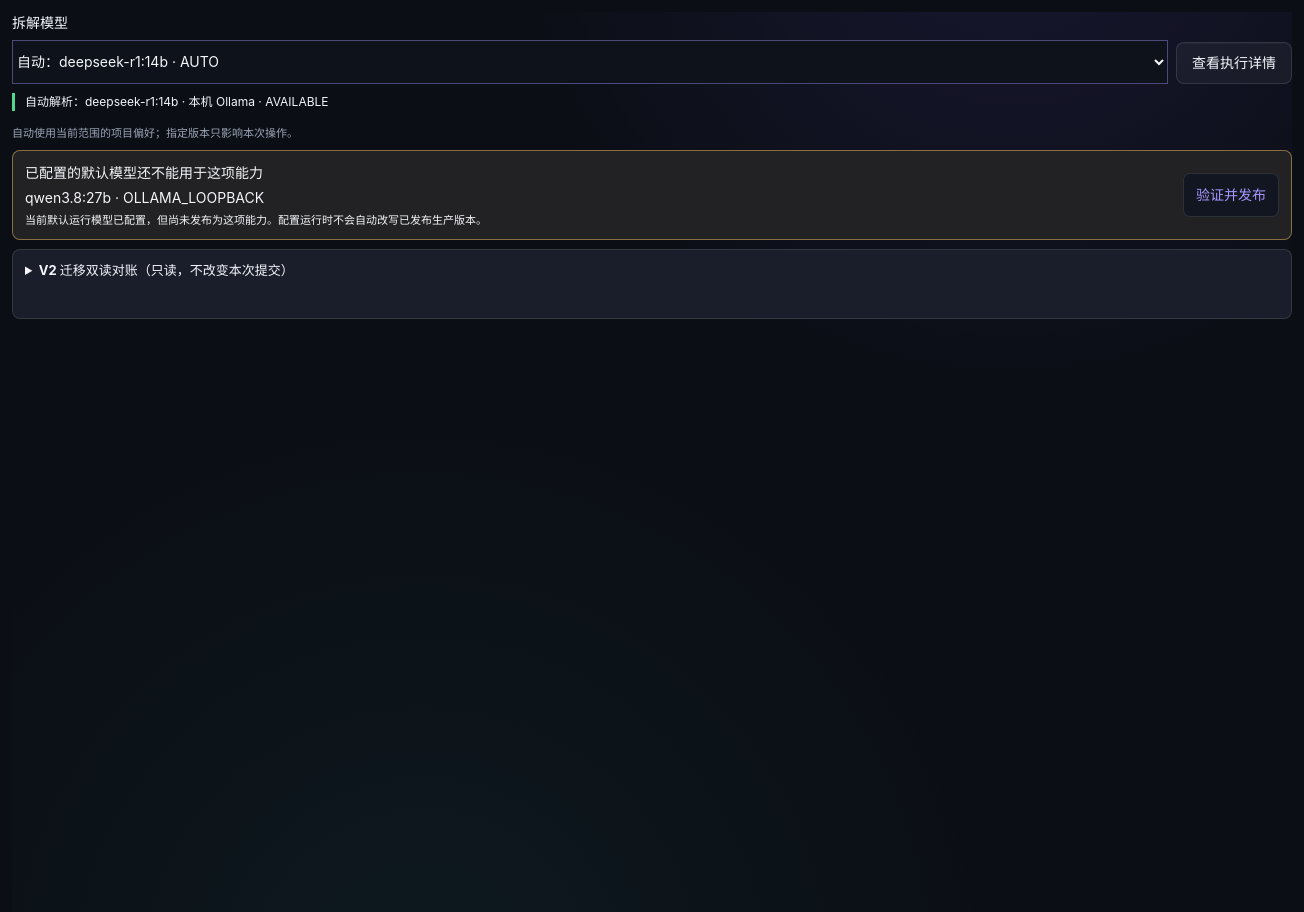
Test: opens V2 migration audit only on demand and keeps the legacy selector unchanged
The width and height of the screenshot is (1304, 912).
Click the heading "V2 迁移双读对账（只读，不改变本次提交）" at (166, 270), box x1=39 y1=262 x2=294 y2=278
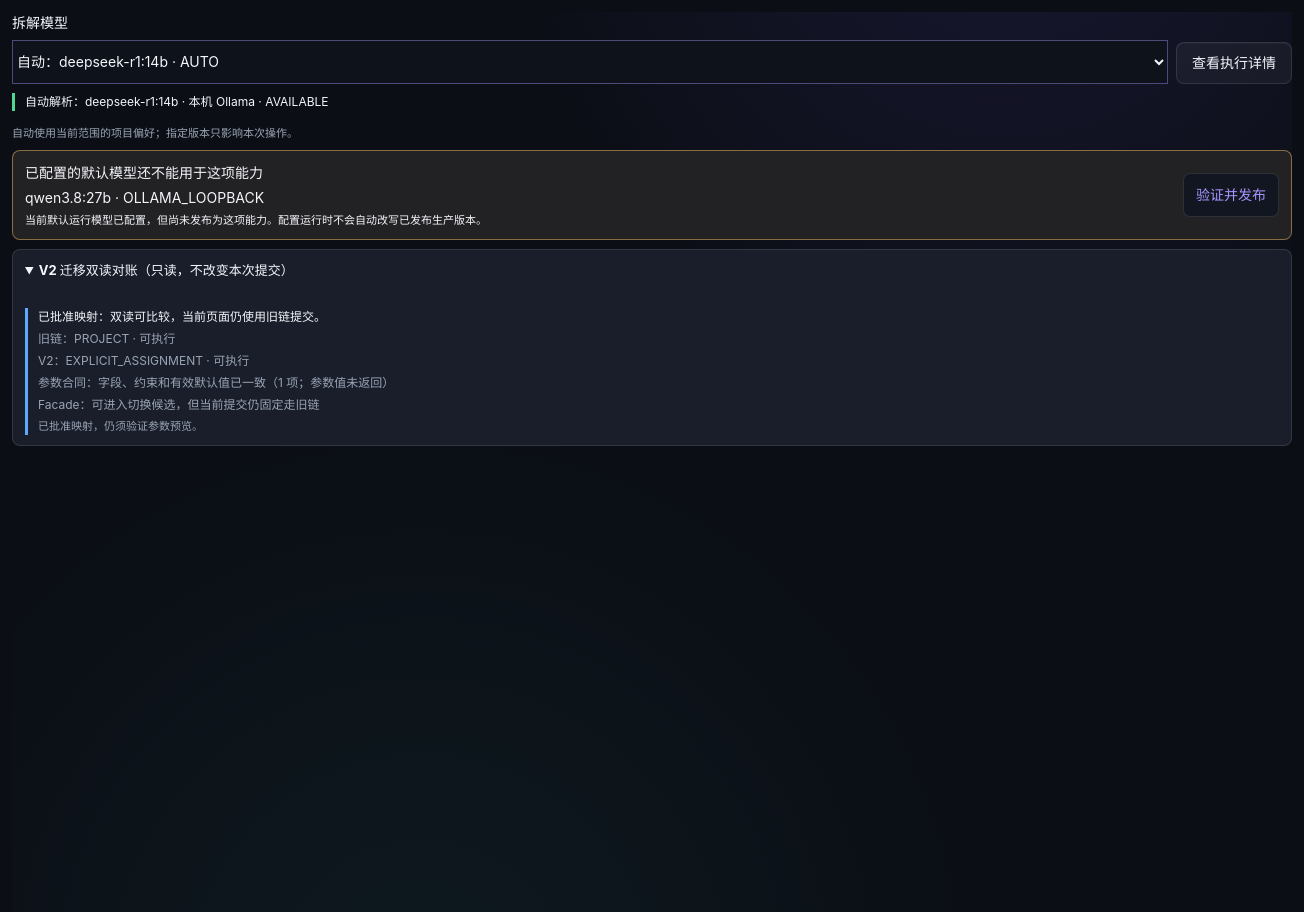
Result: the text "已批准映射：双读可比较，当前页面仍使用旧链提交。" is shown at x1=38 y1=309 x2=326 y2=324
Result: the text "参数合同：字段、约束和有效默认值已一致（1 项；参数值未返回）" is shown at x1=38 y1=375 x2=394 y2=390
Result: the text "Facade：可进入切换候选，但当前提交仍固定走旧链" is shown at x1=38 y1=397 x2=320 y2=412
